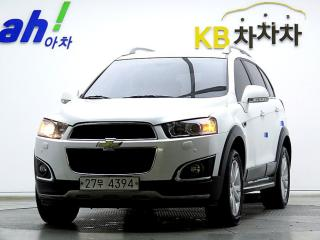2: (85, 178, 91, 189)
3: (114, 178, 121, 189)
4: (108, 177, 114, 189), (128, 178, 134, 188)
7: (91, 178, 97, 189)
9: (121, 178, 128, 188)
plate: (76, 172, 142, 194)
무: (97, 178, 104, 189)
